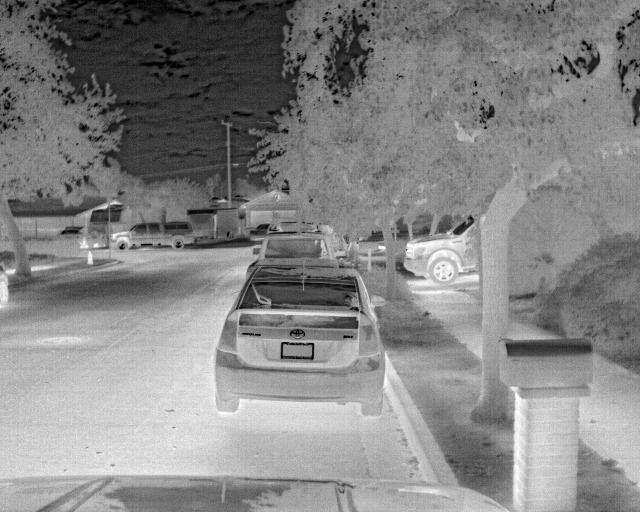vehicle: (212, 265, 385, 412), (404, 210, 549, 283), (249, 230, 338, 283), (112, 220, 193, 252)
